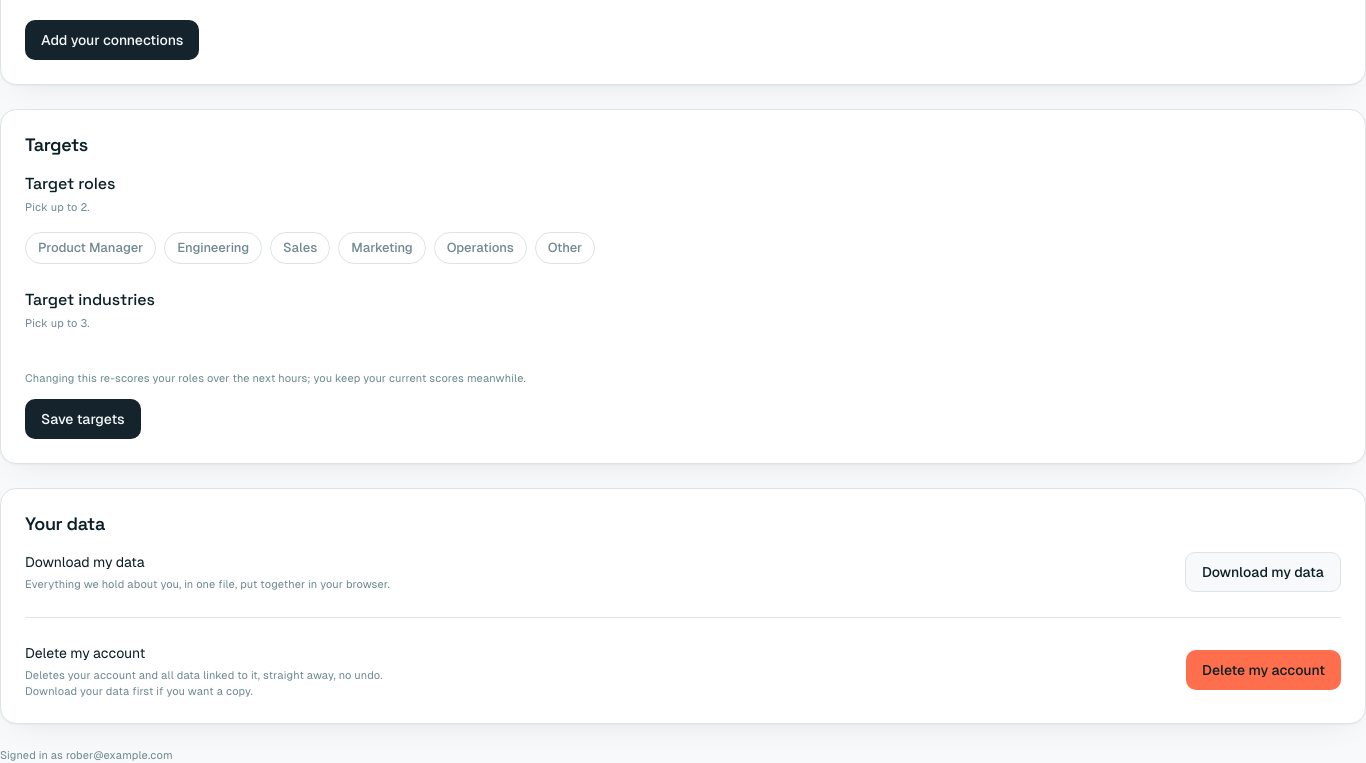
Test: SettingsPanel — account section (issue #84, restructured #156) › offers the download, and says so when it couldn't be built
(page scrolled)
Click the button "Download my data": (1263, 572) [1185,552,1341,592]
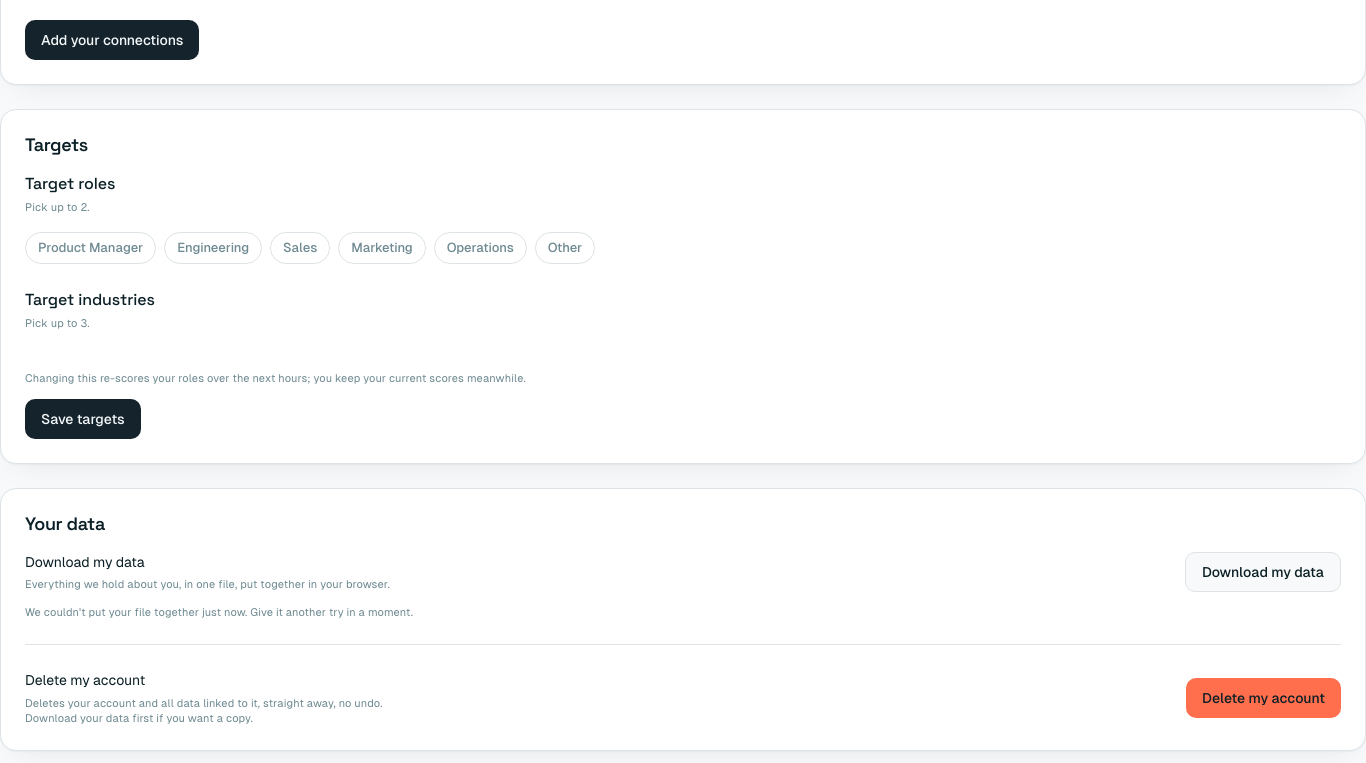
Result: the message shows "couldn't put your file together" at [25,606,413,618]
